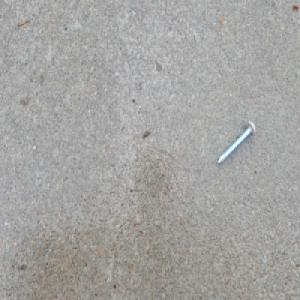Nail: (215, 119, 256, 168)
